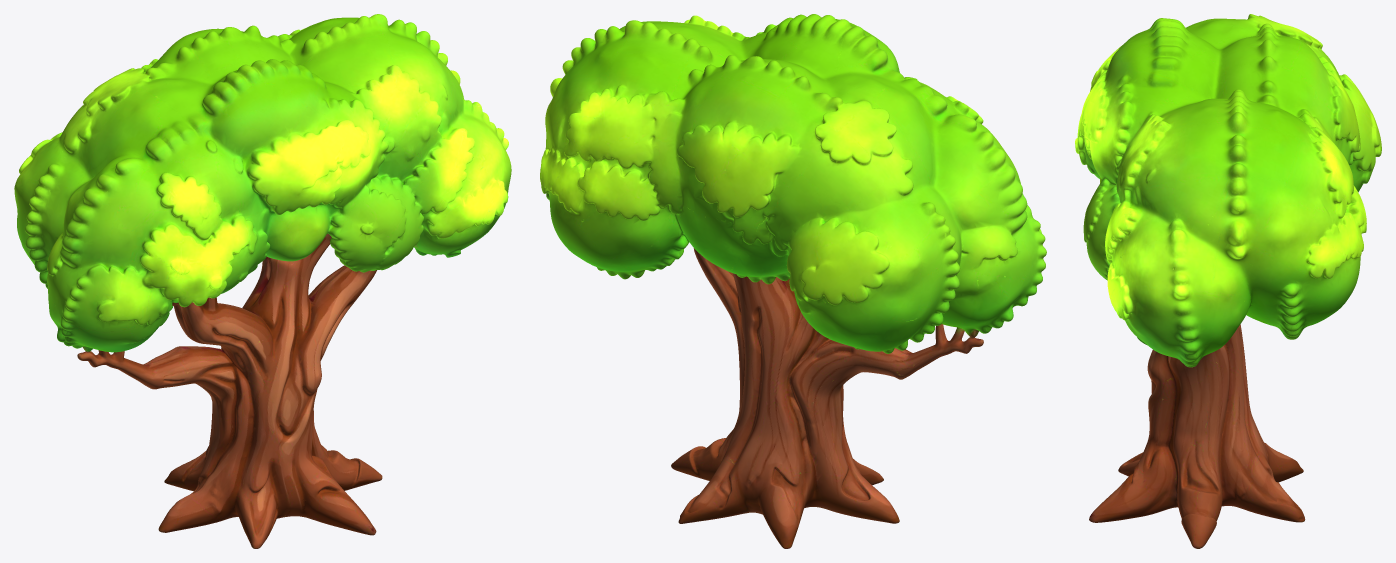
File: tree2_final.glb
3 views of the same model, side by side, from view 1: azimuth 30°, elevation 25°; view 2: azimuth 150°, elevation 25°; view 3: azimuth 270°, elevation 25° (orthographic). The views are drawn at different scales.
Size of the model in its own units: 1.9 by 1.83 by 1.1.
Materials: 1 (1 with a texture image).
